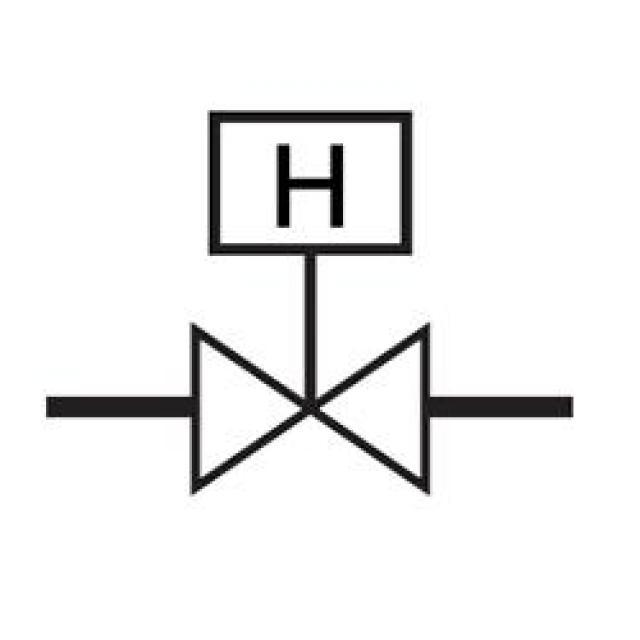Hydraulic Operated Gate Valve: (152, 80, 484, 533)
